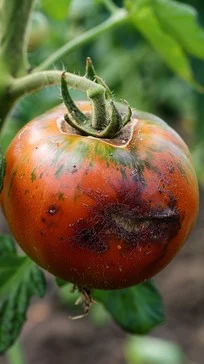rotten tomato: (6, 92, 200, 309)
